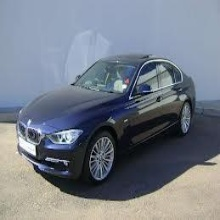no damage: (15, 53, 196, 186)
